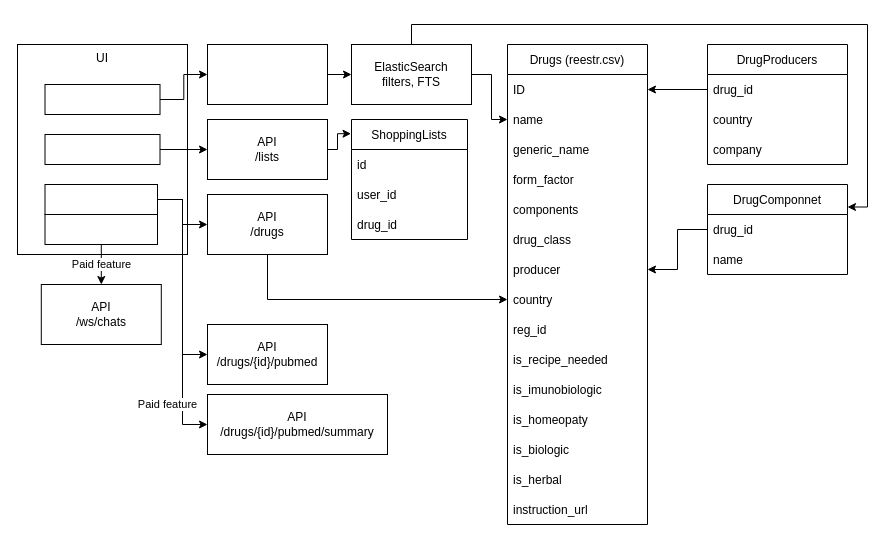
Image size: 893x542. Some labels were removed from this diagram. Here are the shapes that lost their labels. From the top down, the box of each, then its label:
(206, 44, 328, 104): API /search
(44, 84, 160, 114): Search
(44, 134, 160, 164): Shopping List
(44, 184, 158, 214): Drug Detail
(44, 214, 158, 244): Chat
